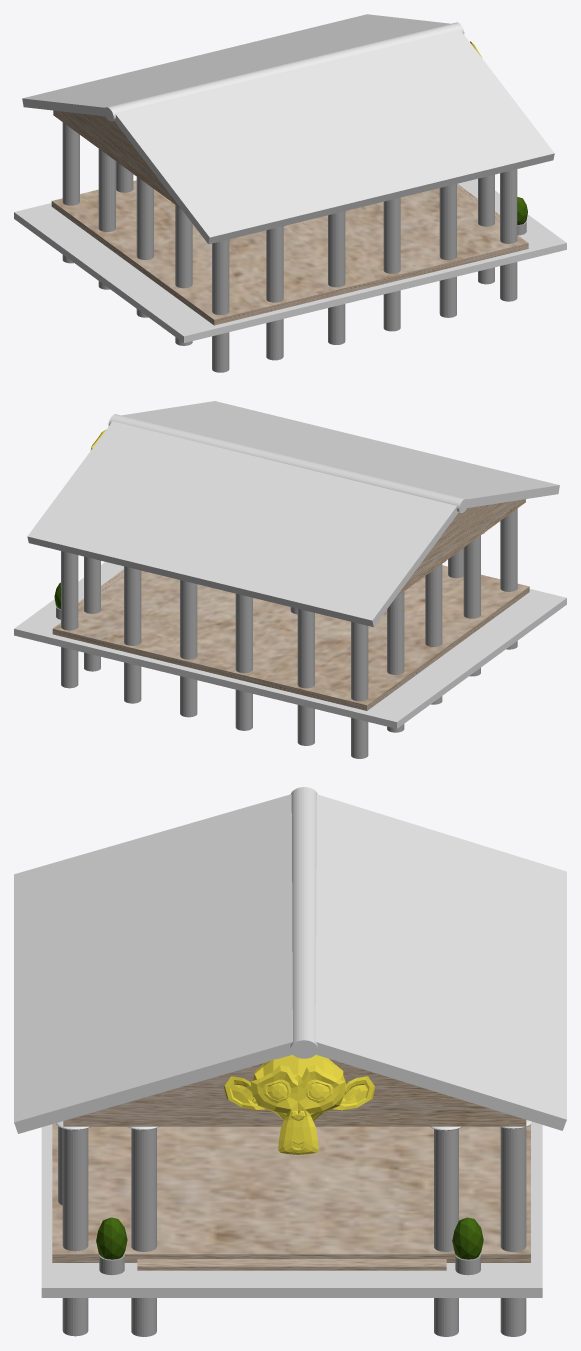
Rendered from Temple Finalvr.glb.
The picture shows the model from 3 angles, top to bottom: view 1: azimuth 30°, elevation 25°; view 2: azimuth 150°, elevation 25°; view 3: azimuth 270°, elevation 25°; orthographic projection. The views are drawn at different scales.
Parts seen in each view (by area): view 1: Cube.004, Cube.002, Cube, Cube.005, Cylinder.019, Cylinder.013, Cylinder.014, Cylinder.015, Cylinder.016, Cylinder.012, Cylinder.002, Cube.003 (+6 smaller); view 2: Cube.005, Cube.002, Cube.004, Cube, Cylinder.019, Cylinder.006, Cylinder.007, Cylinder.003, Cylinder.008, Cylinder.005, Cylinder.004, Cube.003 (+6 smaller); view 3: Cube.004, Cube.005, Cube.002, Cube, Cube.003, Suzanne.001, Cylinder.019, Cylinder.003, Cylinder.002, Cylinder, Cylinder.001, Cube.001 (+5 smaller).
Boxes of the visible parts, box(x1,y1,x2,y2) form: Cube.004: box(114, 29, 554, 244); Cube.002: box(51, 180, 528, 325); Cube: box(14, 178, 566, 342); Cube.005: box(22, 14, 450, 116); Cylinder.019: box(104, 22, 464, 121); Cylinder.013: box(266, 226, 283, 360); Cylinder.014: box(328, 211, 345, 344); Cylinder.015: box(383, 197, 400, 331); Cylinder.016: box(439, 184, 456, 317); Cylinder.012: box(212, 239, 229, 372); Cylinder.002: box(500, 169, 517, 301); Cube.003: box(53, 110, 180, 208); Cube.005: box(27, 421, 458, 627); Cube.002: box(52, 565, 529, 710); Cube.004: box(121, 401, 559, 507); Cube: box(14, 562, 566, 728); Cylinder.019: box(108, 414, 468, 512); Cylinder.006: box(235, 593, 252, 730); Cylinder.007: box(297, 609, 314, 745); Cylinder.003: box(61, 551, 78, 688); Cylinder.008: box(351, 622, 368, 758); Cylinder.005: box(180, 580, 197, 717); Cylinder.004: box(124, 566, 141, 703); Cube.003: box(396, 499, 525, 596); Cube.004: box(14, 794, 292, 1133); Cube.005: box(315, 794, 566, 1130); Cube.002: box(52, 1123, 530, 1262); Cube: box(41, 1122, 542, 1297); Cube.003: box(63, 1099, 526, 1126); Suzanne.001: box(224, 1054, 375, 1154); Cylinder.019: box(290, 787, 317, 1058); Cylinder.003: box(500, 1127, 526, 1336); Cylinder.002: box(62, 1128, 88, 1336); Cylinder: box(131, 1128, 156, 1336); Cylinder.001: box(434, 1128, 458, 1336); Cube.001: box(137, 1259, 446, 1270).
Size of what is drawn, in the model's own units: 51.74 by 27.02 by 43.39.
7 materials, 1 textured.
